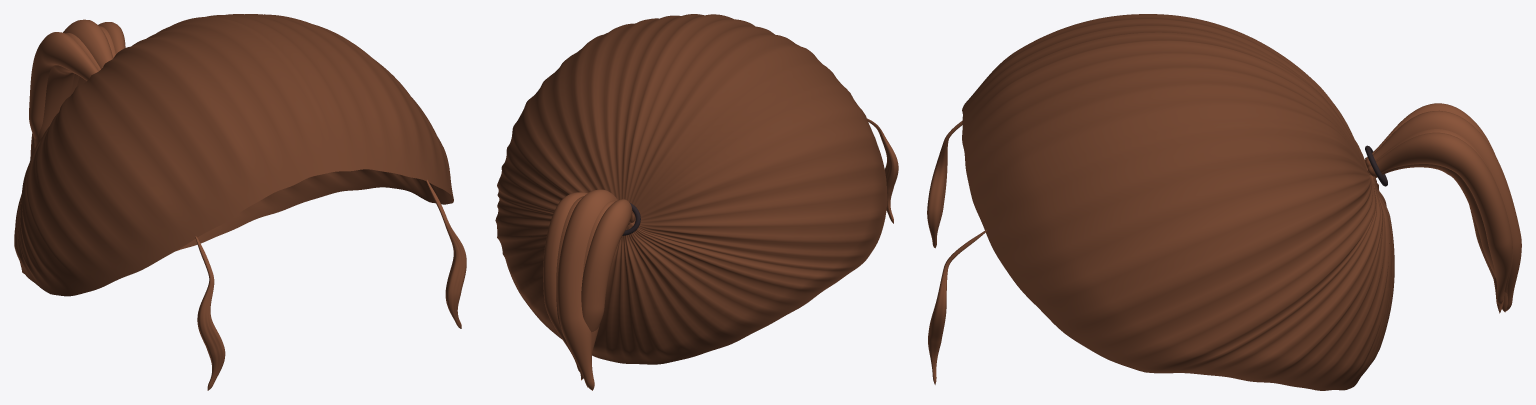
Rendered from Feminine-Feminine-cap-hair-16ae3440.glb.
3 renders of one model, left to right at view 1: azimuth 30°, elevation 25°; view 2: azimuth 150°, elevation 25°; view 3: azimuth 270°, elevation 25°, orthographic. The views are drawn at different scales.
Parts seen in each view (by area): view 1: Hair / swept roots220, Hair / rounded tail220 0, Hair / adjustable front216 -1, Hair / rounded tail220 1, Hair / adjustable front216 1, Hair / rounded tail220 2, Hair / rounded tail220 4; view 2: Hair / swept roots220, Hair / rounded tail220 2, Hair / rounded tail220 0, Hair / rounded tail220 4, Hair / adjustable front216 -1, Hair / rounded tail220 1, Hair / rounded tail220 3; view 3: Hair / swept roots220, Hair / rounded tail220 4, Hair / rounded tail220 2, Hair / rounded tail220 3, Hair / adjustable front216 1, Hair / adjustable front216 -1, Hair / rounded tail220 0.
Boxes of the visible parts, left/top/right/bottom form: Hair / swept roots220: left=14, top=14, right=453, bottom=296; Hair / rounded tail220 0: left=29, top=32, right=98, bottom=139; Hair / adjustable front216 -1: left=195, top=236, right=225, bottom=390; Hair / rounded tail220 1: left=34, top=33, right=100, bottom=147; Hair / adjustable front216 1: left=426, top=180, right=466, bottom=328; Hair / rounded tail220 2: left=30, top=19, right=113, bottom=158; Hair / rounded tail220 4: left=98, top=22, right=125, bottom=53; Hair / swept roots220: left=495, top=14, right=887, bottom=364; Hair / rounded tail220 2: left=557, top=189, right=617, bottom=390; Hair / rounded tail220 0: left=580, top=199, right=634, bottom=380; Hair / rounded tail220 4: left=543, top=192, right=587, bottom=372; Hair / adjustable front216 -1: left=867, top=118, right=898, bottom=223; Hair / rounded tail220 1: left=583, top=200, right=629, bottom=387; Hair / rounded tail220 3: left=556, top=196, right=583, bottom=336; Hair / swept roots220: left=962, top=14, right=1394, bottom=390; Hair / rounded tail220 4: left=1367, top=132, right=1512, bottom=304; Hair / rounded tail220 2: left=1365, top=110, right=1521, bottom=311; Hair / rounded tail220 3: left=1367, top=129, right=1513, bottom=293; Hair / adjustable front216 1: left=928, top=229, right=986, bottom=384; Hair / adjustable front216 -1: left=927, top=121, right=962, bottom=248; Hair / rounded tail220 0: left=1365, top=103, right=1504, bottom=313.
Bounding box in the file's own units: 0.779 × 0.579 × 0.9414.
